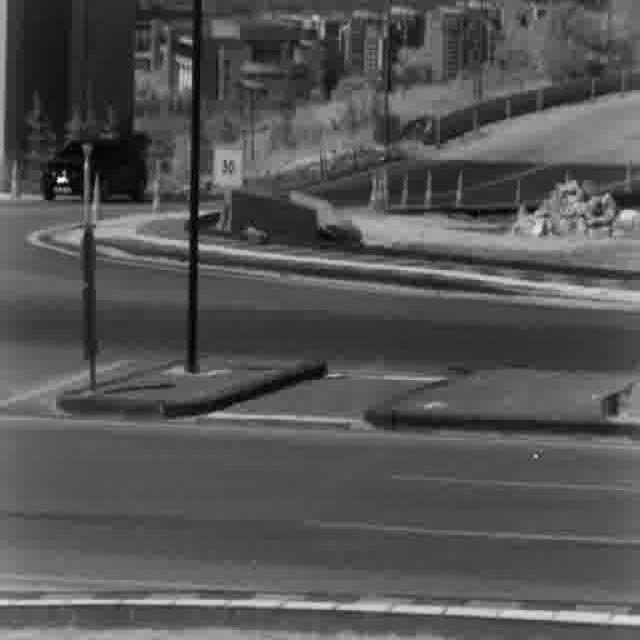Car: (40, 138, 151, 204)
